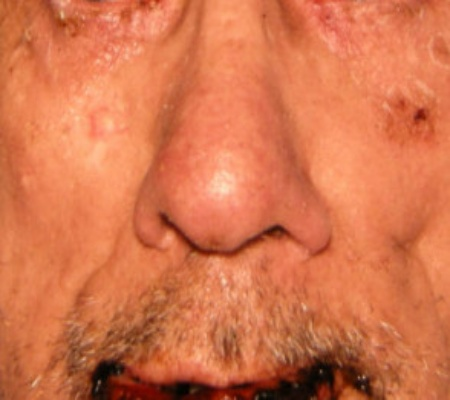SJS-TEN: (63, 338, 383, 396), (8, 4, 182, 98), (371, 78, 450, 166), (279, 6, 438, 44)
